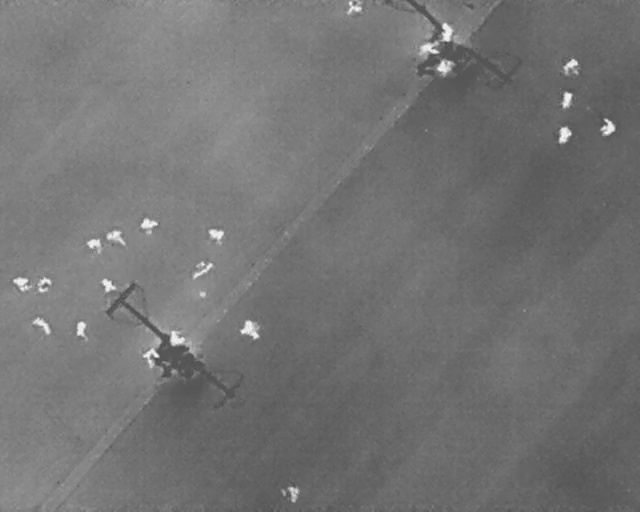Person: (187, 255, 216, 281), (29, 313, 56, 338), (554, 123, 574, 148), (239, 319, 260, 340), (139, 216, 160, 235), (99, 275, 118, 295), (142, 347, 160, 368), (561, 57, 579, 78), (558, 89, 575, 110), (105, 229, 127, 245), (282, 485, 301, 503), (441, 21, 455, 45), (12, 277, 31, 294), (436, 59, 456, 75), (418, 41, 439, 56), (345, 0, 362, 18), (36, 275, 53, 293), (168, 328, 185, 345), (600, 118, 615, 136), (207, 229, 225, 243), (85, 239, 102, 253), (75, 320, 87, 338)
